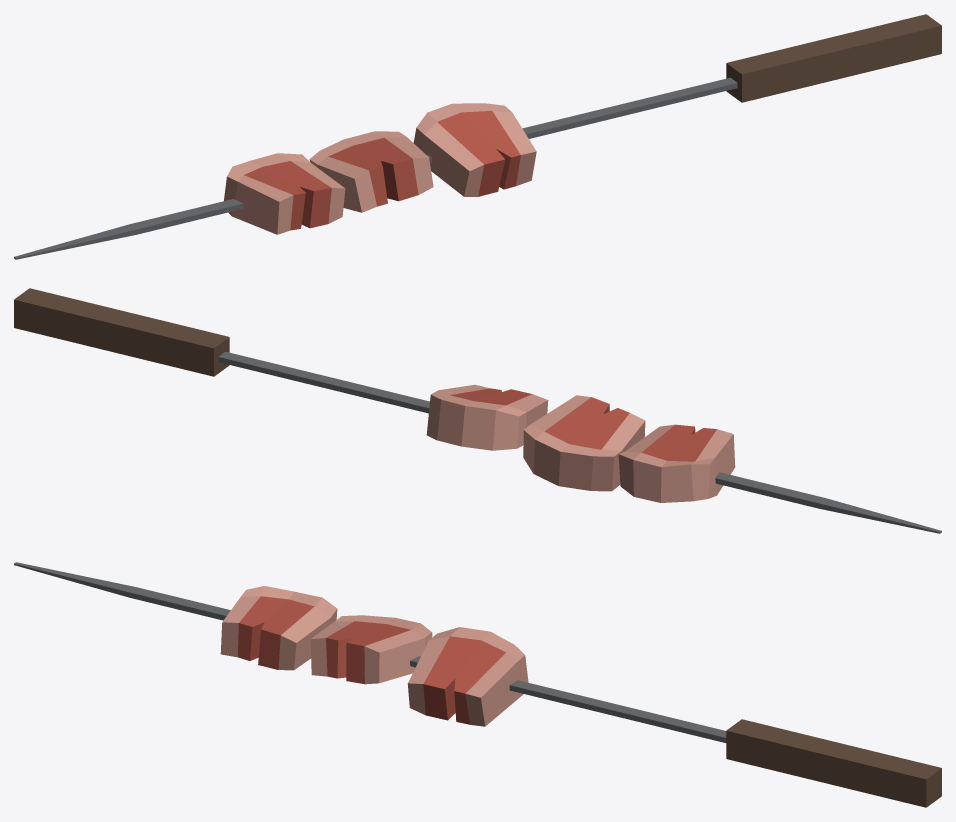
File: picanhaSkewer.fbx
3 views of the same model, one above another, from view 1: azimuth 30°, elevation 25°; view 2: azimuth 150°, elevation 25°; view 3: azimuth 330°, elevation 25° (orthographic).
Visible parts, largest first — view 1: picanhaSkewer; view 2: picanhaSkewer; view 3: picanhaSkewer.
Boxes of the visible parts, left/top/right/bottom form: picanhaSkewer: left=14, top=14, right=941, bottom=259; picanhaSkewer: left=14, top=288, right=941, bottom=533; picanhaSkewer: left=14, top=562, right=941, bottom=807.
Size of the model in its own units: 116 by 6.91 by 12.48.
Materials: 1 (1 with a texture image).
